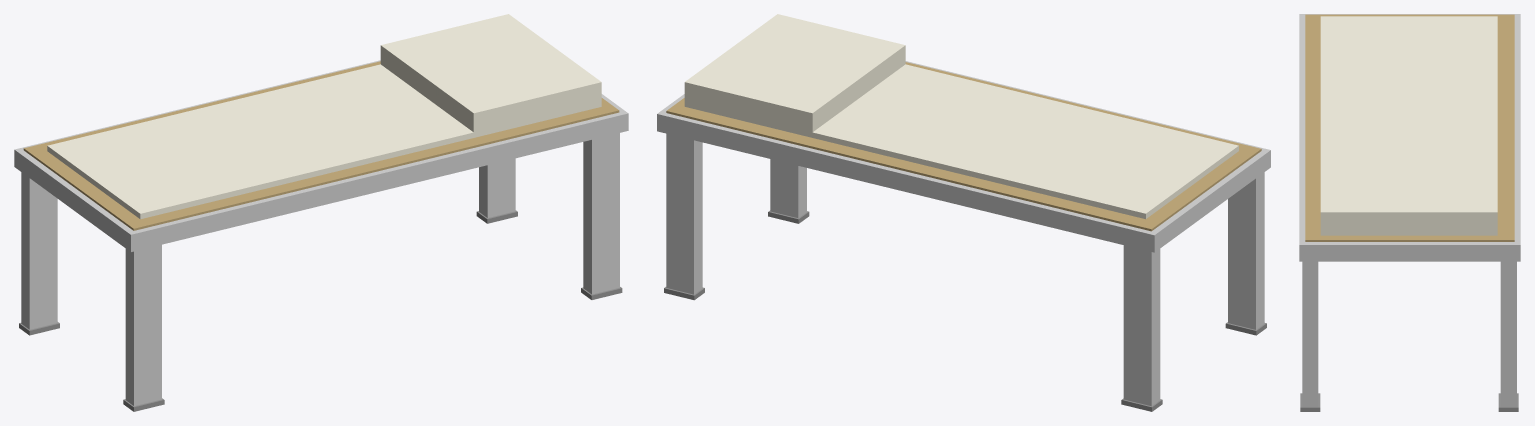
The model's file is berth.fbx.
3 renders of one model, left to right at view 1: azimuth 30°, elevation 25°; view 2: azimuth 150°, elevation 25°; view 3: azimuth 270°, elevation 25°, orthographic. The views are drawn at different scales.
Visible parts, largest first — view 1: Cube_13; view 2: Cube_13; view 3: Cube_13.
Boxes of the visible parts, box(x1,y1,x2,y2) form: Cube_13: box(14, 14, 628, 411); Cube_13: box(657, 14, 1270, 411); Cube_13: box(1299, 14, 1520, 411).
Size of the model in its own units: 187 by 73.65 by 75.82.
